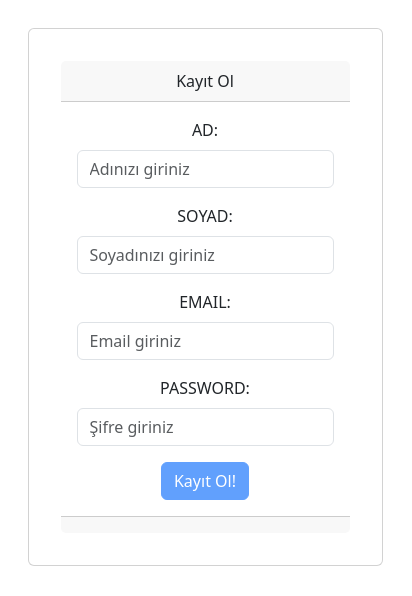
Test: Register Page Validations › should show email error specifically for incomplete format
This screenshot has width=412, height=596.
Type "emre@wit." into the field with id "email". click: (206, 341)
box: [77, 322, 334, 360]
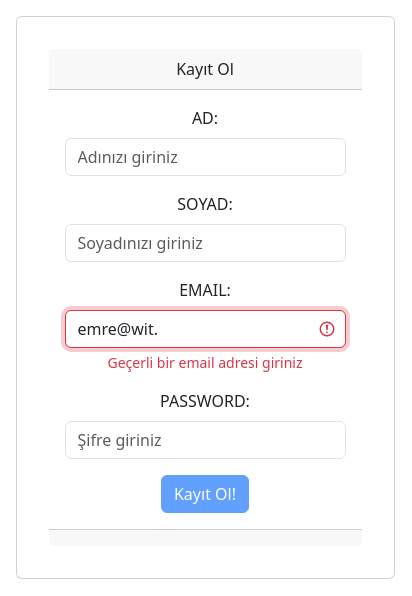
Expected: the text "Geçerli bir email adresi giriniz" is shown, [108, 352, 302, 372]
